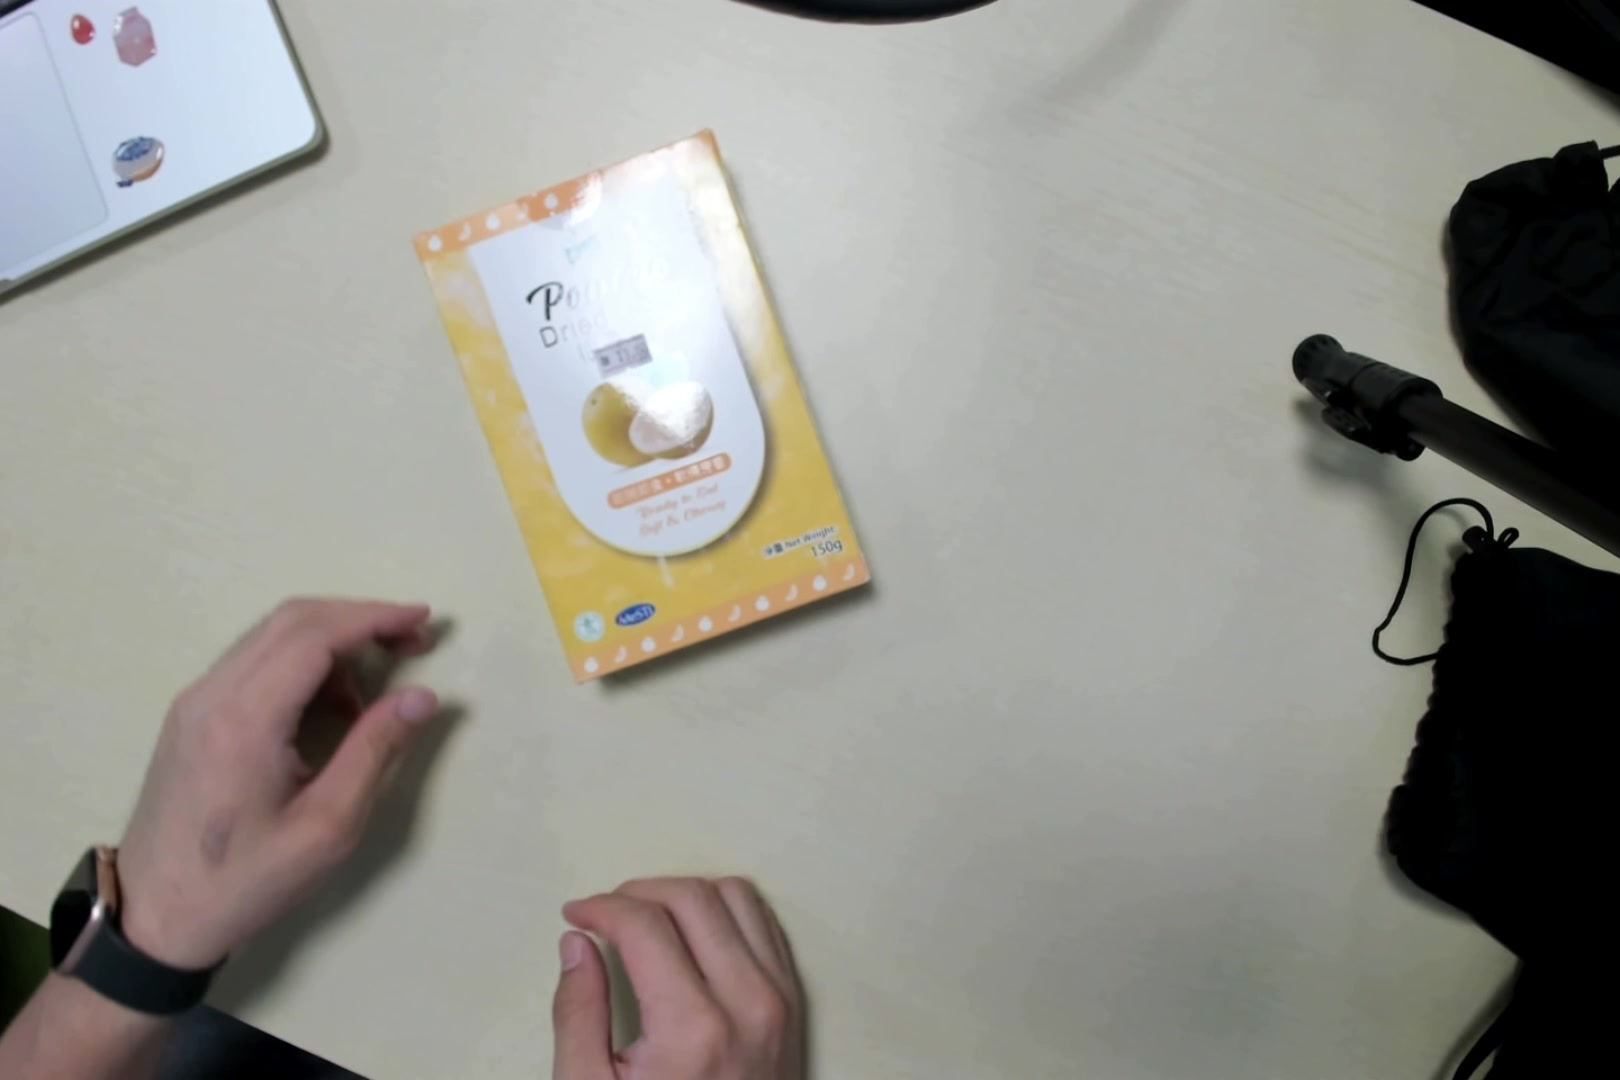DriedVegetables_100-199g_NonHalal_NonHealthy: (415, 130, 877, 693)
